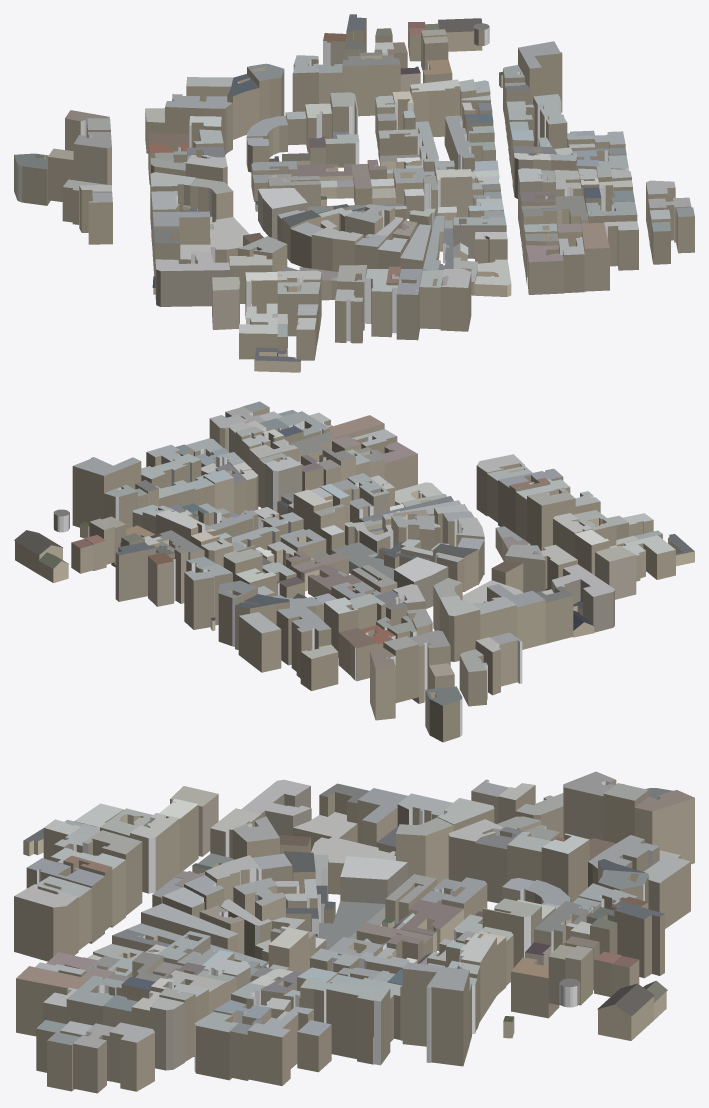
The picture shows the model from 3 angles, top to bottom: view 1: azimuth 30°, elevation 25°; view 2: azimuth 150°, elevation 25°; view 3: azimuth 270°, elevation 25°; orthographic projection. The views are drawn at different scales.
Visible parts, largest first — view 1: tuile; view 2: tuile; view 3: tuile.
Part boxes in pixels (left/top/right/bottom): tuile: left=14, top=14, right=694, bottom=372; tuile: left=14, top=401, right=694, bottom=742; tuile: left=14, top=771, right=694, bottom=1093.
Size of the model in its own units: 276 by 57.37 by 273.
